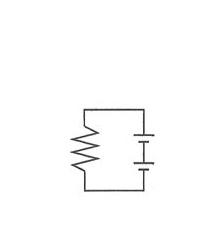resistor: (62, 112, 102, 185)
